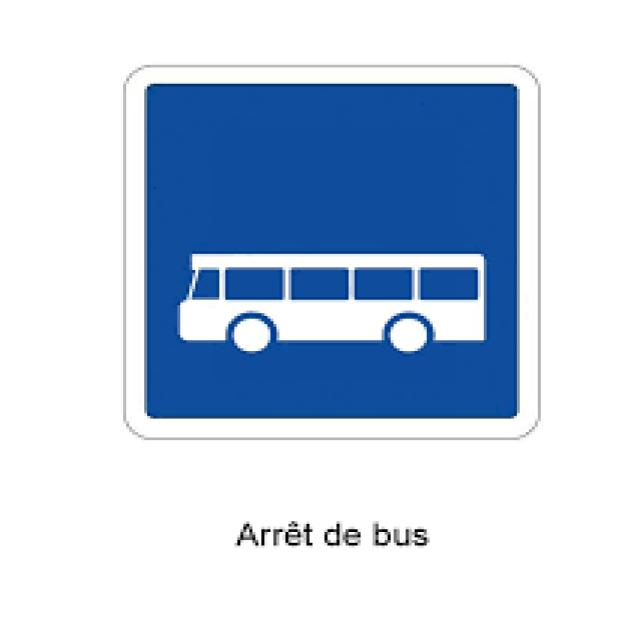ArretBus: (124, 68, 538, 444)
